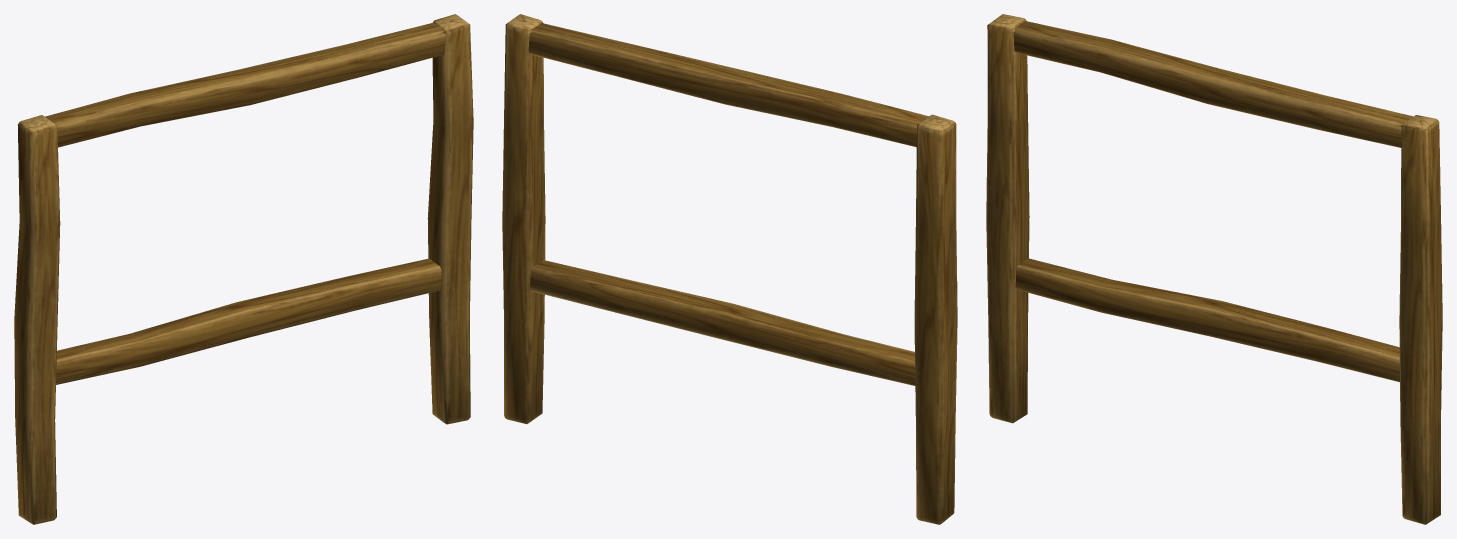
Rendered from Fence_Var1_2.fbx.
The picture shows the model from 3 angles, left to right: view 1: azimuth 30°, elevation 25°; view 2: azimuth 150°, elevation 25°; view 3: azimuth 330°, elevation 25°; orthographic projection.
Parts seen in each view (by area): view 1: Fence_Var1_2_LOD0; view 2: Fence_Var1_2_LOD0; view 3: Fence_Var1_2_LOD0.
Part boxes in pixels (<box>): Fence_Var1_2_LOD0: <box>14,14,473,524</box>; Fence_Var1_2_LOD0: <box>502,14,957,524</box>; Fence_Var1_2_LOD0: <box>986,14,1442,524</box>.
Size of the model in its own units: 152 by 11.1 by 130.
Materials: 1 (1 with a texture image).
